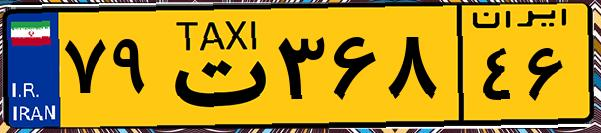3: (270, 28, 330, 110)
4: (475, 38, 525, 113)
6: (330, 28, 385, 110), (525, 38, 570, 115)
7: (57, 26, 110, 100)
8: (385, 28, 445, 110)
9: (110, 28, 158, 98)
ت: (158, 12, 270, 120)
